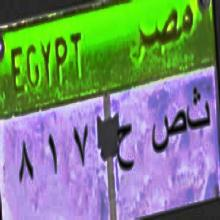1: (45, 130, 63, 186)
7: (74, 122, 90, 171)
7aa: (115, 120, 138, 180)
8: (13, 136, 36, 194)
saad: (146, 106, 186, 160)
thaa: (186, 82, 210, 144)
